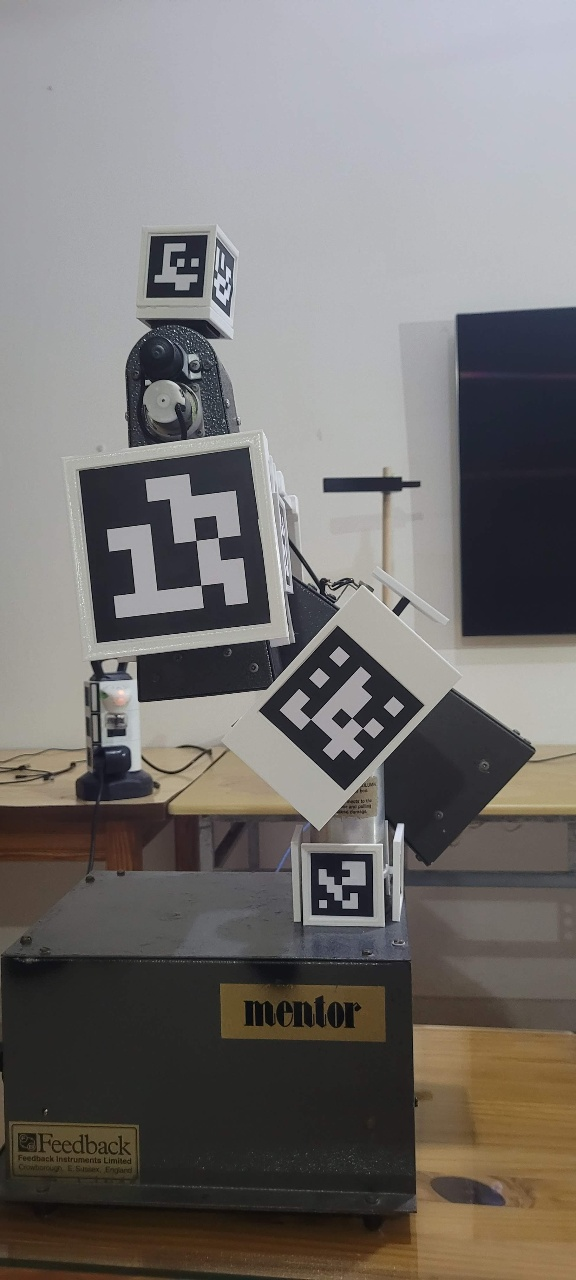Robot: (59, 223, 538, 927)
